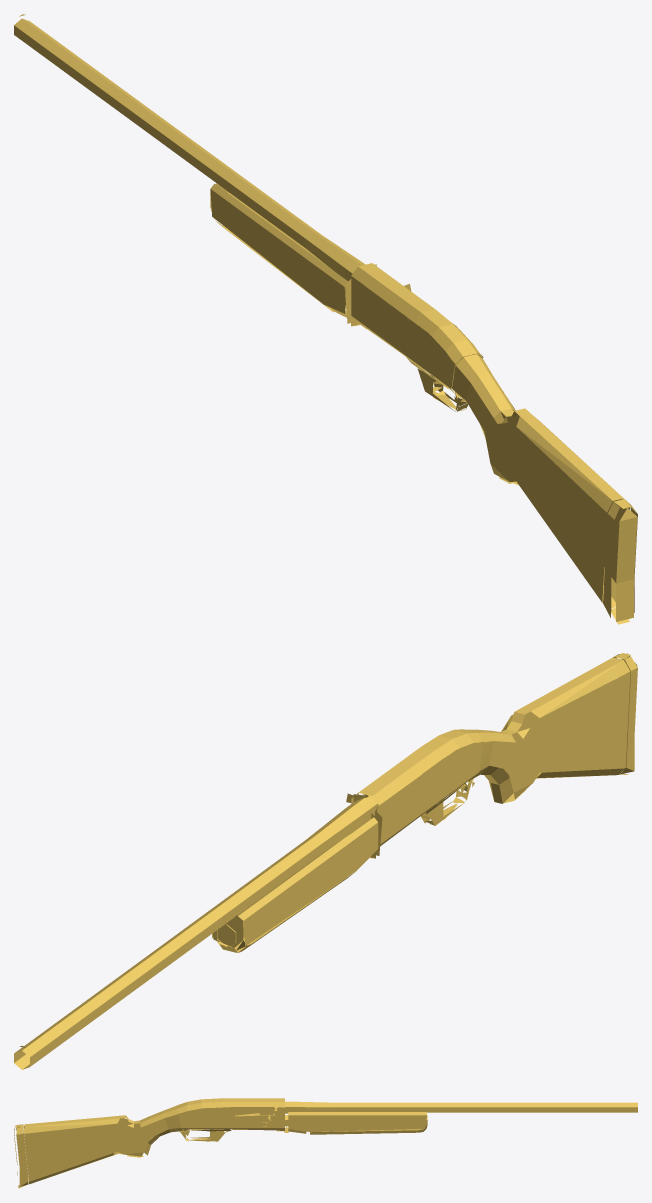
The model's file is charm_mst_shotgun_7.glb.
3 renders of one model, top to bottom at view 1: azimuth 30°, elevation 25°; view 2: azimuth 150°, elevation 25°; view 3: azimuth 270°, elevation 25°, orthographic. The views are drawn at different scales.
Parts seen in each view (by area): view 1: p0_paint; view 2: p0_paint; view 3: p0_paint.
Boxes of the visible parts, <box> form: p0_paint: <box>14,14,637,624</box>; p0_paint: <box>14,653,637,1069</box>; p0_paint: <box>14,1098,637,1188</box>.
Size of the model in its own units: 0.0538 by 0.1735 by 1.13.
